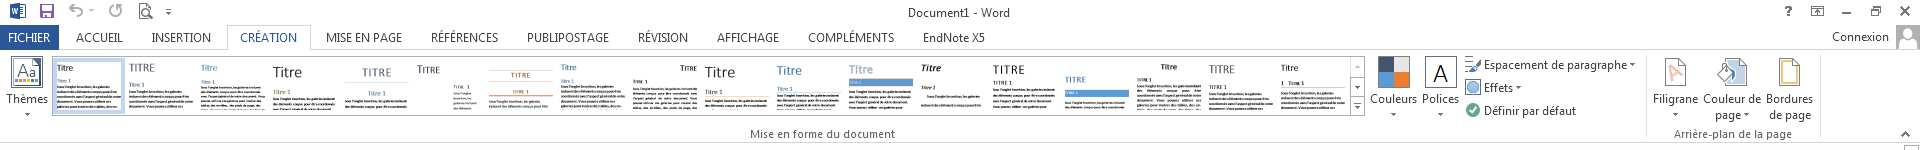texte: (1485, 57, 1635, 73), (1833, 25, 1920, 49), (909, 0, 969, 26), (1654, 81, 1698, 113), (1371, 82, 1417, 113), (1485, 103, 1576, 118), (1674, 129, 1791, 140), (327, 21, 369, 52), (10, 2, 83, 18), (561, 85, 624, 103), (1423, 82, 1460, 113), (1378, 57, 1411, 89), (1569, 57, 1635, 73), (809, 30, 894, 42), (1769, 114, 1796, 149), (1464, 79, 1521, 95), (432, 30, 498, 42), (922, 85, 980, 98), (489, 90, 540, 105), (1898, 21, 1920, 53), (528, 33, 609, 42), (1673, 113, 1749, 122), (639, 30, 687, 42), (1767, 93, 1813, 106), (718, 33, 779, 42), (924, 33, 984, 42), (140, 2, 171, 18), (152, 33, 211, 42), (1461, 52, 1480, 77), (993, 89, 1026, 103), (241, 33, 296, 42), (922, 54, 940, 80), (1740, 114, 1752, 149), (973, 21, 987, 52), (76, 33, 122, 42), (1706, 93, 1745, 103), (1464, 91, 1476, 125), (1753, 114, 1764, 149), (844, 130, 895, 138), (1551, 52, 1562, 77), (1433, 65, 1449, 82), (453, 85, 471, 100), (993, 65, 1024, 74), (364, 68, 389, 77), (373, 33, 402, 42), (984, 9, 1009, 17), (1787, 113, 1811, 122), (793, 130, 822, 138), (418, 65, 440, 74), (109, 4, 121, 17), (751, 130, 773, 138), (1771, 109, 1782, 119), (1900, 6, 1910, 16), (1751, 93, 1761, 103), (512, 73, 530, 77), (827, 130, 839, 138), (369, 91, 384, 96), (778, 132, 789, 138), (1391, 113, 1396, 116), (1438, 113, 1442, 116), (973, 14, 977, 14)
